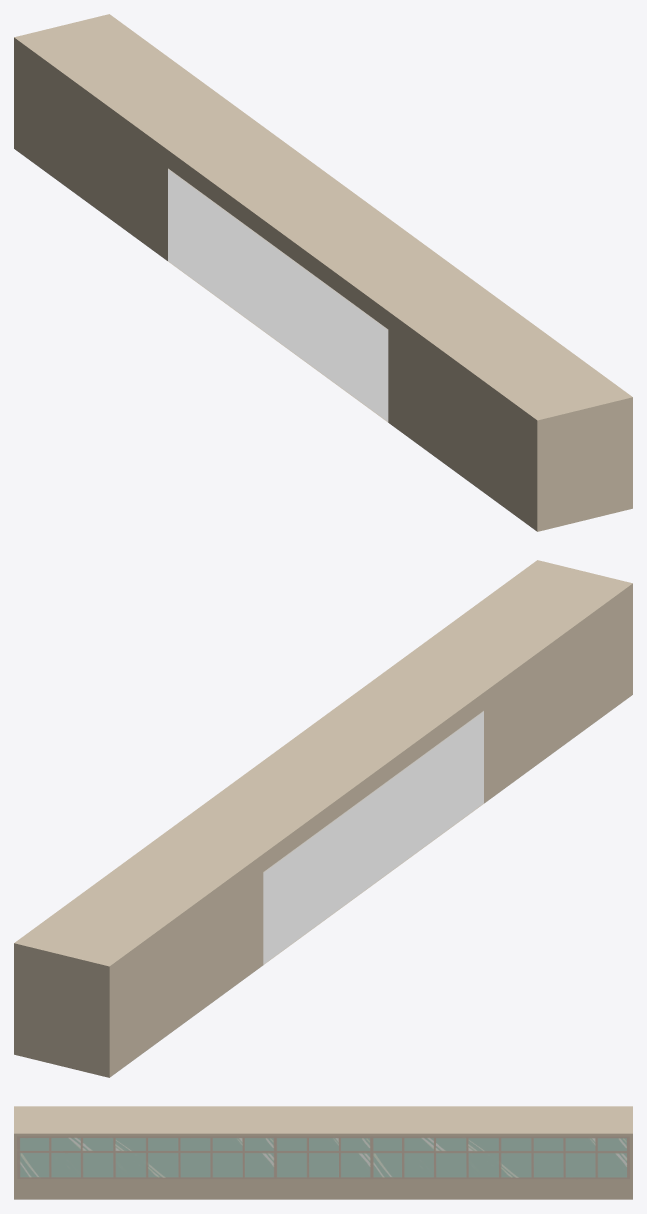
Rendered from rouka3.fbx.
3 renders of one model, top to bottom at view 1: azimuth 30°, elevation 25°; view 2: azimuth 150°, elevation 25°; view 3: azimuth 270°, elevation 25°, orthographic. The views are drawn at different scales.
Parts seen in each view (by area): view 1: pCube2; view 2: pCube2; view 3: pCube2.
Boxes of the visible parts, bbox=[...] form: pCube2: bbox=[14, 14, 632, 531]; pCube2: bbox=[14, 560, 632, 1077]; pCube2: bbox=[14, 1106, 632, 1199].
Bounding box in the file's own units: 6.1 × 6.8 × 57.9.
